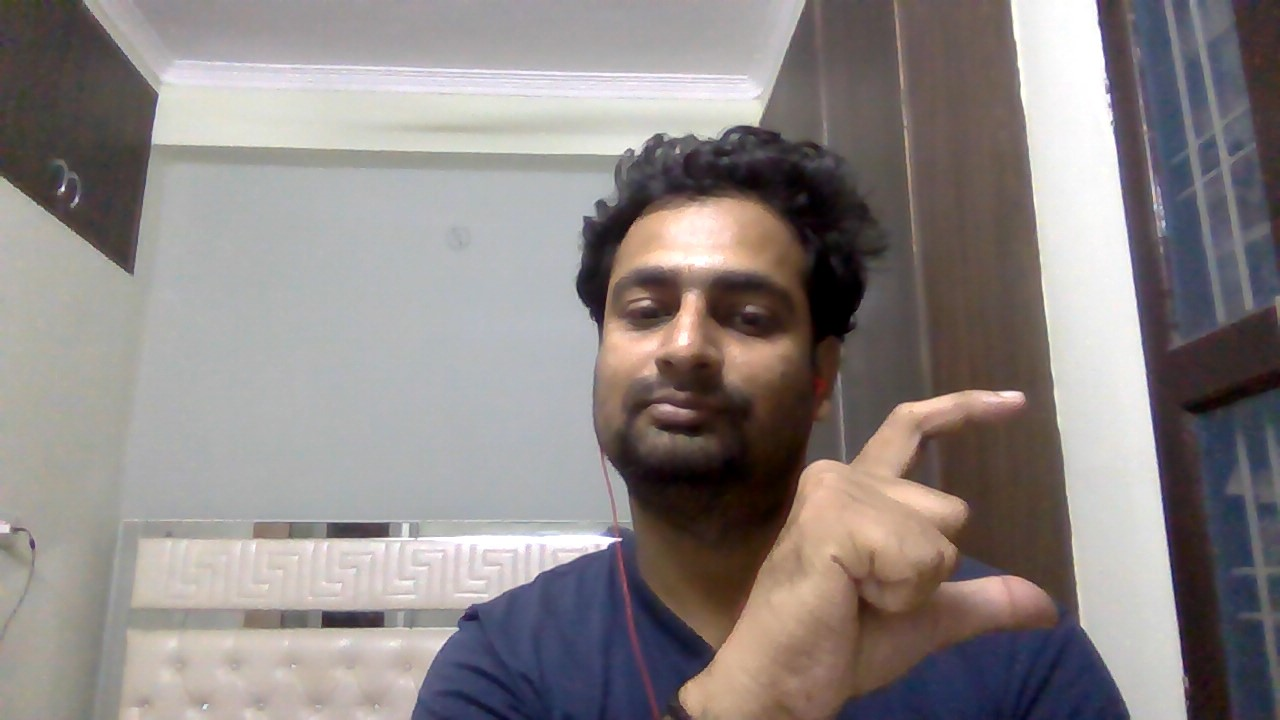Paste: (729, 375, 1072, 705)
